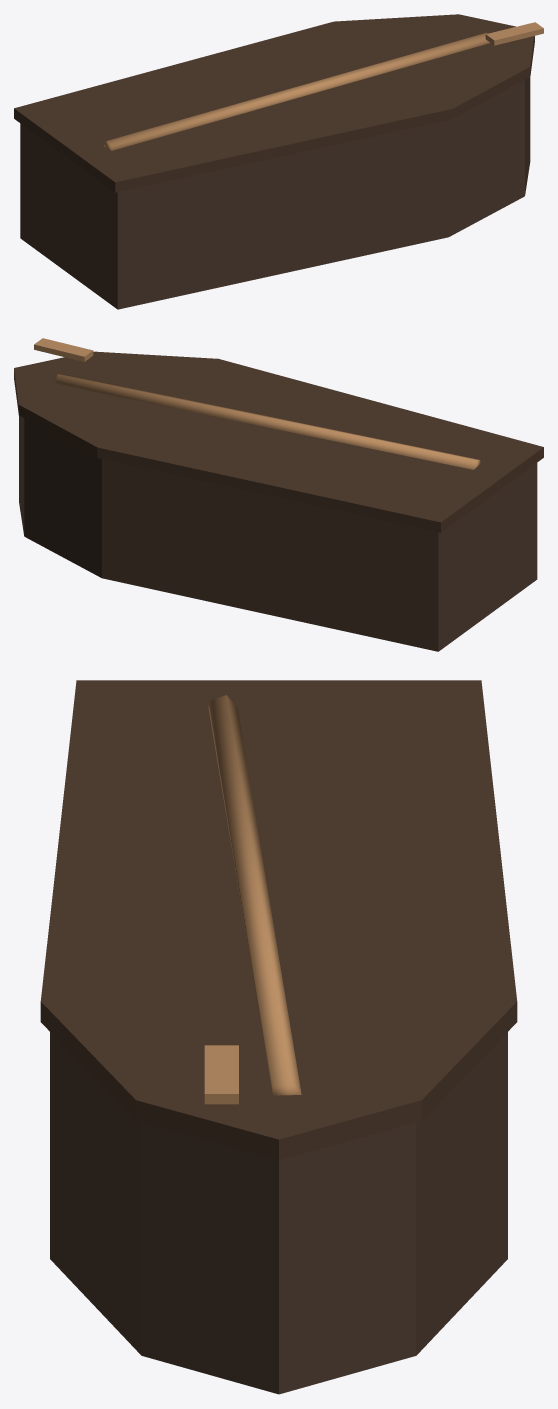
File: rowboat.glb
3 views of the same model, one above another, from view 1: azimuth 30°, elevation 25°; view 2: azimuth 150°, elevation 25°; view 3: azimuth 270°, elevation 25° (orthographic). The views are drawn at different scales.
Visible parts, largest first — view 1: rowboat; view 2: rowboat; view 3: rowboat.
Boxes of the visible parts, x1,y1,x2,y2 form: rowboat: (14,14,543,309); rowboat: (14,338,543,651); rowboat: (40,680,517,1394).
Size of the model in its own units: 0.9486 by 0.285 by 0.416.
